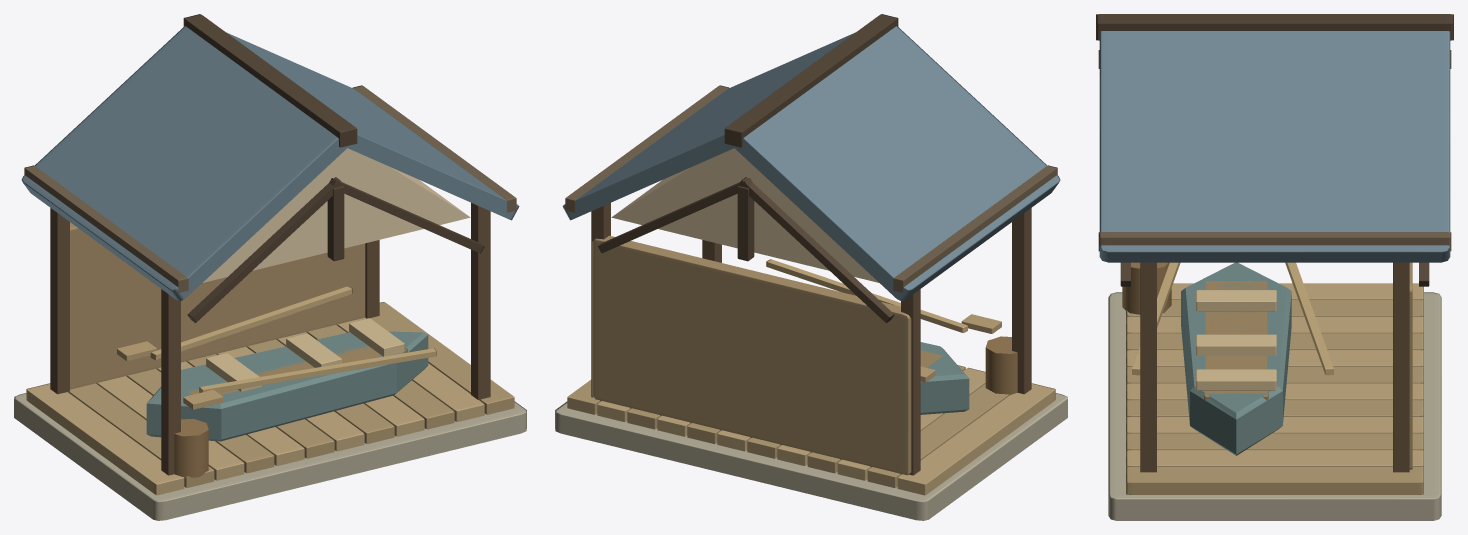
The model's file is boathouse-2.glb.
3 renders of one model, left to right at view 1: azimuth 30°, elevation 25°; view 2: azimuth 150°, elevation 25°; view 3: azimuth 270°, elevation 25°, orthographic. The views are drawn at different scales.
Parts seen in each view (by area): view 1: boathouse-2-0; view 2: boathouse-2-0; view 3: boathouse-2-0.
Boxes of the visible parts, left/top/right/bottom form: boathouse-2-0: left=14, top=14, right=526, bottom=520; boathouse-2-0: left=555, top=14, right=1067, bottom=520; boathouse-2-0: left=1096, top=14, right=1453, bottom=520.
Size of the model in its own units: 2.8 by 2.51 by 2.04.
